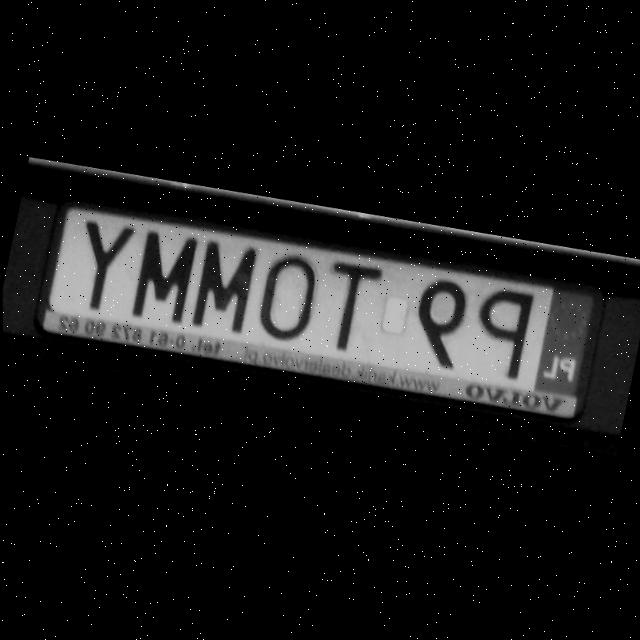license-plates: (39, 206, 595, 419)
